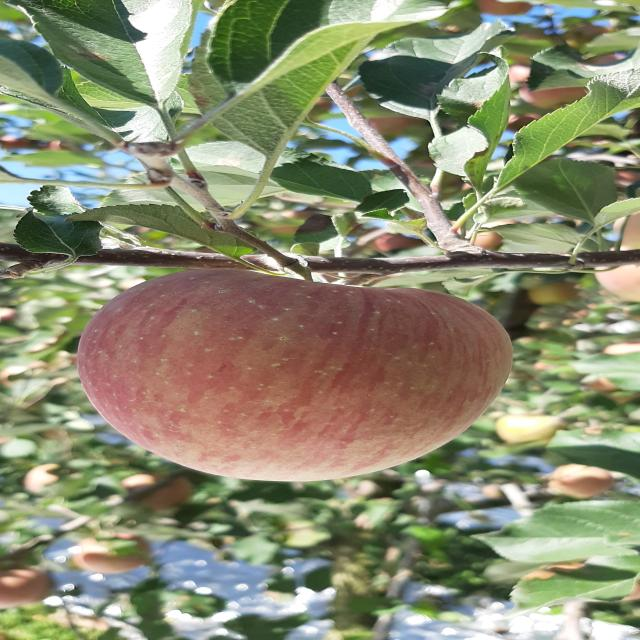fresh: (60, 260, 532, 491)
